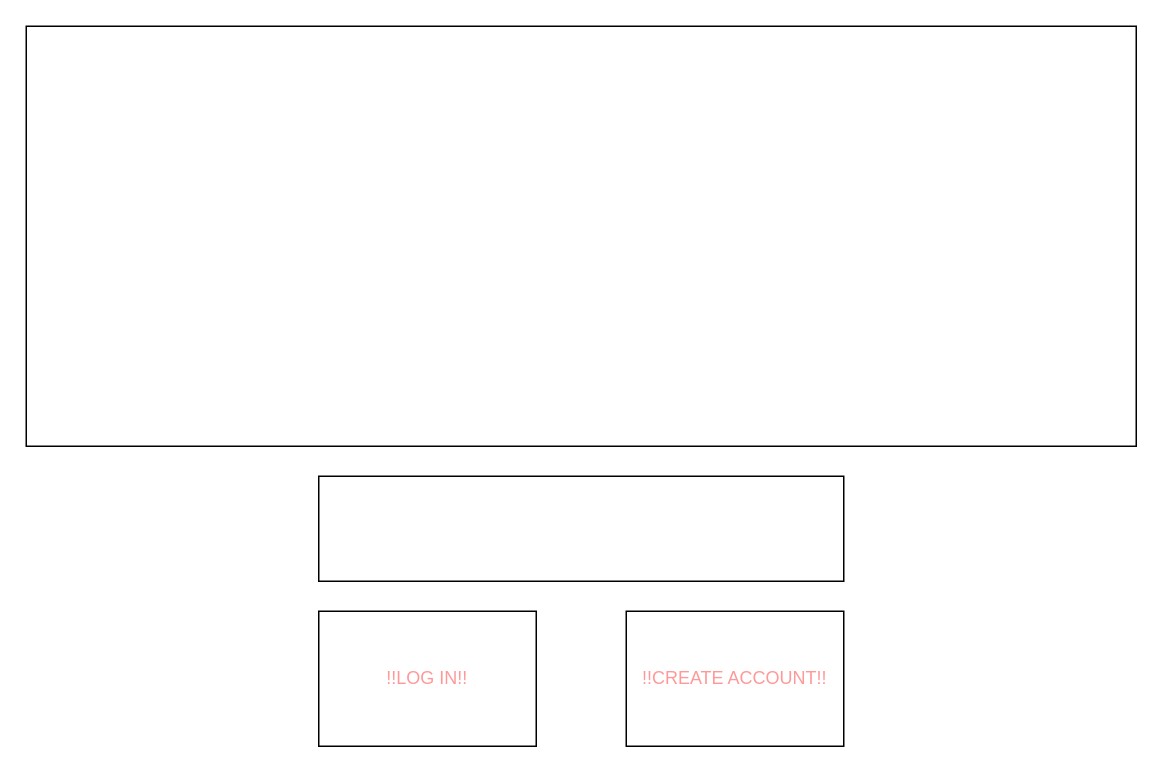
This 1163x773 diagram has some shape labels left out. The centre of each missing label's shape, as x and y in pixels:
In order to use this website, you must log in or create an account: point 580,528
Title w/ Logo: point 580,235
